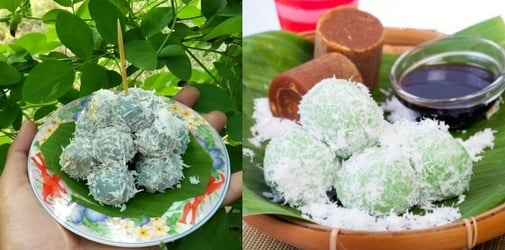klepon: (301, 75, 384, 149)
